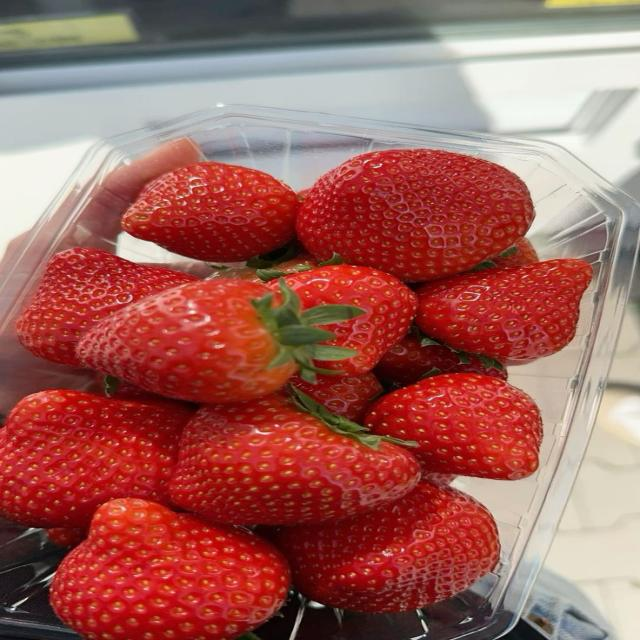strawberry: (78, 279, 363, 402), (51, 499, 289, 639), (170, 394, 419, 525), (297, 149, 533, 281), (278, 481, 499, 613), (0, 390, 193, 527), (16, 248, 197, 366), (365, 374, 542, 479), (416, 259, 592, 360), (122, 162, 299, 262), (281, 265, 416, 374), (375, 334, 506, 386), (290, 372, 382, 422), (86, 374, 188, 407), (207, 253, 317, 282), (491, 238, 539, 267), (47, 528, 86, 547), (422, 473, 456, 484)
